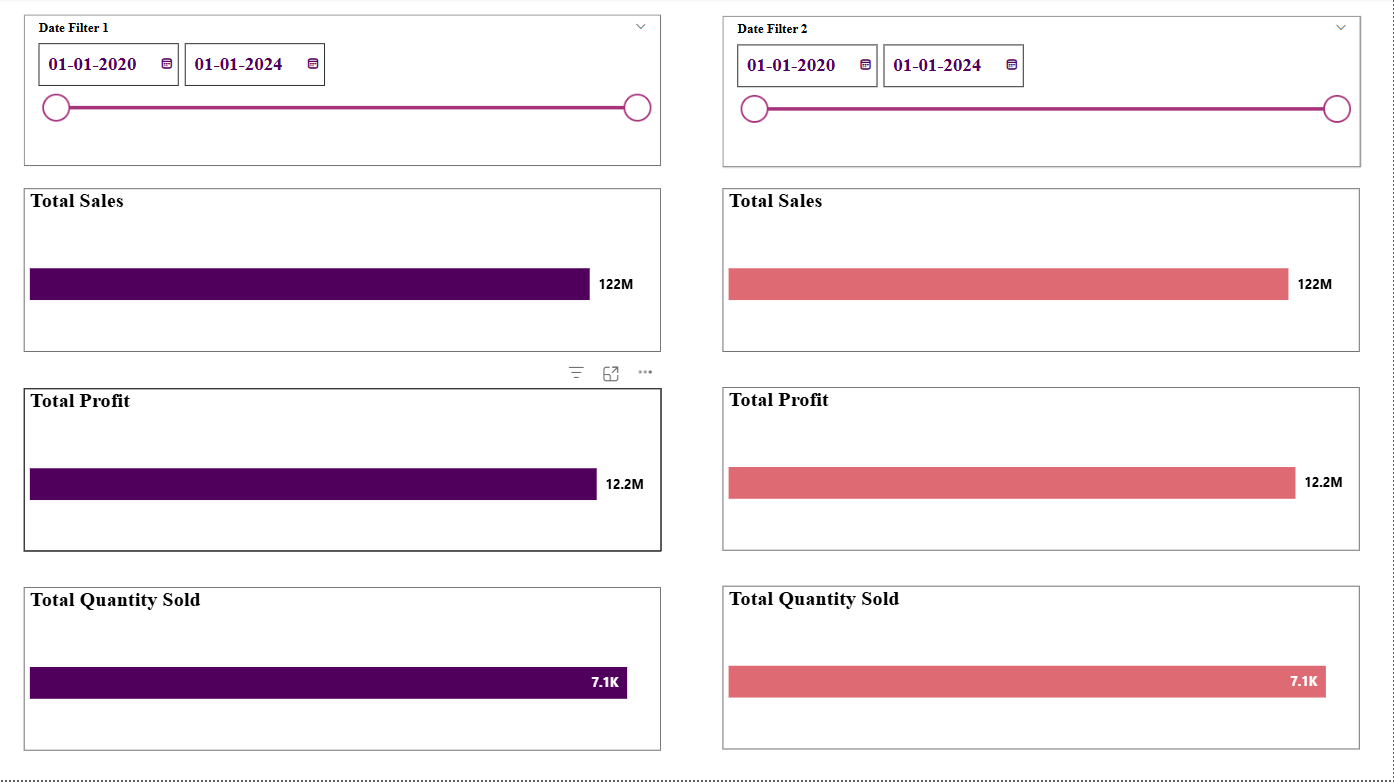

What the dashboard file says about the page in this screenshot:
{"tool":"powerbi","page":{"name":"Edit Interactions","canvas":[1280,720],"ordinal":3},"visuals":[{"type":"slicer","fields":{"Values":["Fact Table.Date (dd/mm/yyyy)"]},"box":[22.2,16,585.3,139.2],"z":0},{"type":"slicer","fields":{"Values":["Fact Table.Date (dd/mm/yyyy)"]},"box":[664.2,17.3,586.5,139.2],"z":1000},{"type":"barChart","title":"Total Sales  ","fields":{"Y":["Sum(Fact Table.Net Sales  )"]},"box":[22.2,176.2,585.3,150.3],"z":2000},{"type":"barChart","title":"Total Quantity Sold","fields":{"Y":["Sum(Fact Table.Units Sold)"]},"box":[22.2,542.2,585.3,150.3],"z":3000},{"type":"barChart","title":"Total Profit","fields":{"Y":["Sum(Fact Table.Profit)"]},"box":[22.2,359.8,585.3,150.3],"z":4000},{"type":"barChart","title":"Total Sales  ","fields":{"Y":["Sum(Fact Table.Net Sales  )"]},"box":[664,175.4,585.3,150.3],"z":5000},{"type":"barChart","title":"Total Quantity Sold","fields":{"Y":["Sum(Fact Table.Units Sold)"]},"box":[664,541.3,585.3,150.3],"z":6000},{"type":"barChart","title":"Total Profit","fields":{"Y":["Sum(Fact Table.Profit)"]},"box":[664,359,585.3,150.3],"z":7000}]}

Visuals, with their boxes in screenshot pixels (x1, y1, x2, y2), scaled from the page's 1280x720 canvas onto the 1394x782 screenshot:
slicer - Fact Table.Date (dd/mm/yyyy): detection(24, 17, 662, 169)
slicer - Fact Table.Date (dd/mm/yyyy): detection(723, 19, 1362, 170)
"Total Sales  " barChart: detection(24, 191, 662, 355)
"Total Quantity Sold" barChart: detection(24, 589, 662, 752)
"Total Profit" barChart: detection(24, 391, 662, 554)
"Total Sales  " barChart: detection(723, 191, 1361, 354)
"Total Quantity Sold" barChart: detection(723, 588, 1361, 751)
"Total Profit" barChart: detection(723, 390, 1361, 553)
